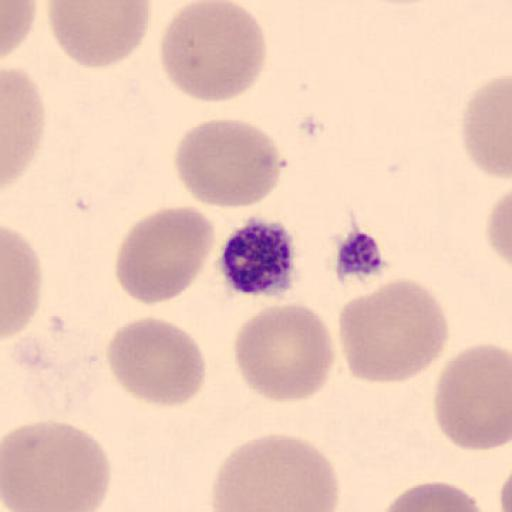Platelet: (217, 214, 299, 299), (332, 228, 390, 286)
RBC: (336, 278, 452, 384), (158, 0, 269, 103), (208, 431, 341, 512), (114, 204, 217, 307), (232, 303, 336, 404), (2, 418, 113, 511), (173, 117, 284, 210), (105, 315, 206, 409), (434, 342, 512, 452), (46, 0, 153, 69), (459, 72, 512, 180), (2, 66, 46, 190), (2, 224, 42, 339), (379, 479, 488, 512), (485, 184, 512, 270), (2, 0, 38, 62), (499, 457, 512, 512)
